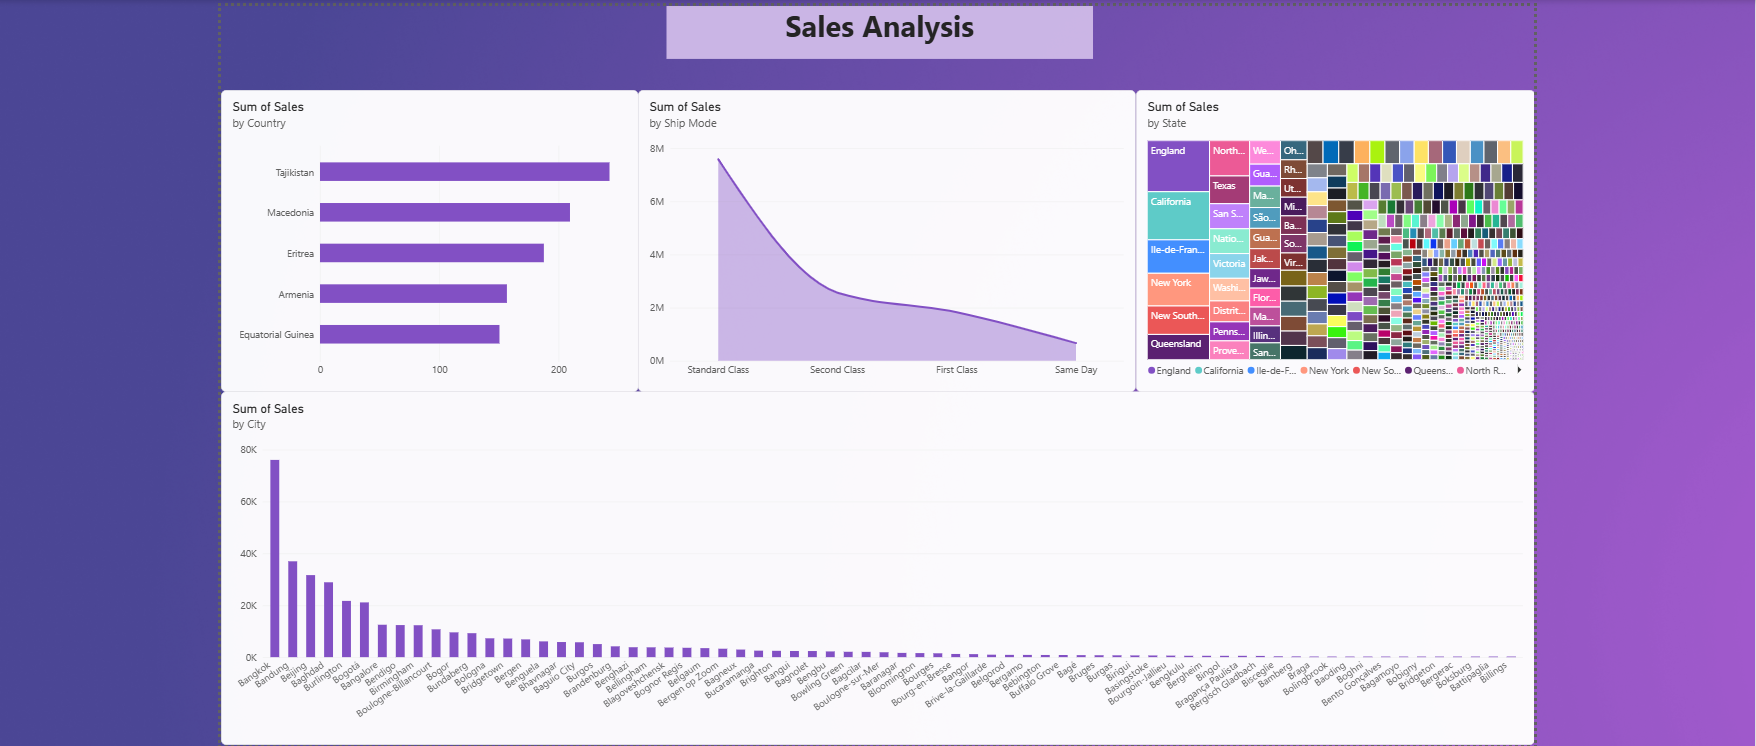

Layout of this report page (visuals, bound fields, positions):
{"tool":"powerbi","page":{"name":"Page 2","canvas":[1920,1080],"ordinal":1},"visuals":[{"type":"columnChart","fields":{"Category":["Orders.City"],"Y":["Sum(Orders.Sales)"]},"box":[0,563.1,1920,516.6],"z":0},{"type":"barChart","fields":{"Category":["Orders.Country"],"Y":["Sum(Orders.Sales)"]},"box":[0,121.9,609.7,441.2],"z":2},{"type":"stackedAreaChart","fields":{"Category":["Orders.Ship Mode"],"Y":["Sum(Orders.Sales)"]},"box":[609.7,121.9,727.2,441.2],"z":3},{"type":"textbox","box":[651.8,0,623,77.6],"z":4},{"type":"treemap","fields":{"Group":["Orders.State"],"Values":["Sum(Orders.Sales)"]},"box":[1336.9,121.9,583.1,441.2],"z":5}]}

Visuals, with their boxes on the page's 1920x1080 design canvas (x1, y1, x2, y2). These are canvas units, not pixel positions in the 1756x746 screenshot, which may show the page scaled, cropped or inside an application window:
columnChart - Orders.City x Sum(Orders.Sales): BBox(0, 563, 1920, 1080)
barChart - Orders.Country x Sum(Orders.Sales): BBox(0, 122, 610, 563)
stackedAreaChart - Orders.Ship Mode x Sum(Orders.Sales): BBox(610, 122, 1337, 563)
textbox: BBox(652, 0, 1275, 78)
treemap - Orders.State x Sum(Orders.Sales): BBox(1337, 122, 1920, 563)
